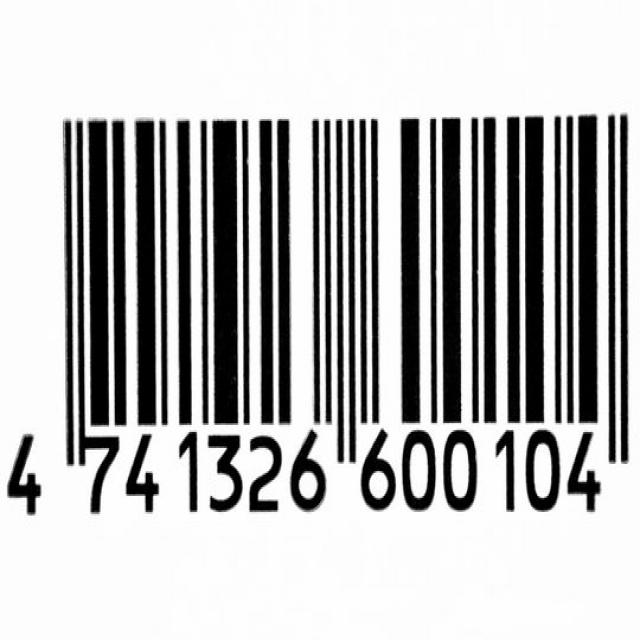Barkod: (49, 93, 636, 530)
